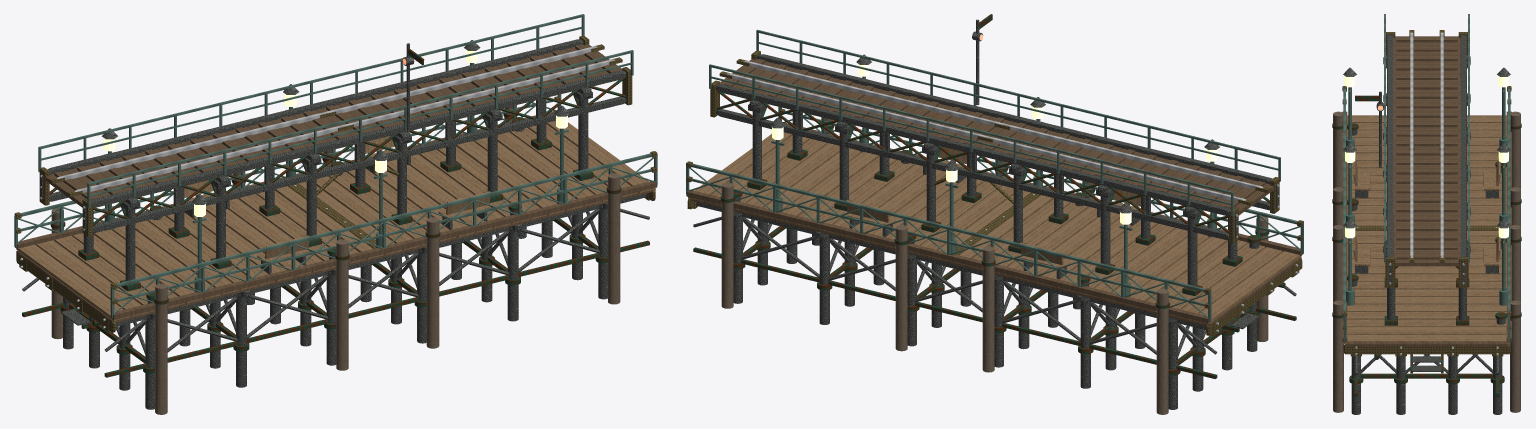
Rendered from muelle_recto_juego_web.glb.
3 views of the same model, side by side, from view 1: azimuth 30°, elevation 25°; view 2: azimuth 150°, elevation 25°; view 3: azimuth 270°, elevation 25° (orthographic). The views are drawn at different scales.
Visible parts, largest first — view 1: Muelle_Hierro_Muelle, Muelle_Madera_Tablero, Muelle_Barandilla_Verde, Muelle_Madera_Traviesa, Muelle_Hierro_Oxido, Muelle_Defensa_Pilote, Muelle_Acero_Rail, Muelle_Brida_Acople, Muelle_Luz_Farola; view 2: Muelle_Hierro_Muelle, Muelle_Madera_Tablero, Muelle_Barandilla_Verde, Muelle_Madera_Traviesa, Muelle_Hierro_Oxido, Muelle_Defensa_Pilote, Muelle_Acero_Rail, Muelle_Brida_Acople, Muelle_Luz_Farola; view 3: Muelle_Madera_Tablero, Muelle_Madera_Traviesa, Muelle_Hierro_Muelle, Muelle_Defensa_Pilote, Muelle_Barandilla_Verde, Muelle_Brida_Acople, Muelle_Hierro_Oxido, Muelle_Acero_Rail, Muelle_Luz_Farola.
Part boxes in pixels (left/top/right/bottom): Muelle_Hierro_Muelle: left=22, top=39, right=649, bottom=409; Muelle_Madera_Tablero: left=16, top=120, right=655, bottom=320; Muelle_Barandilla_Verde: left=14, top=14, right=657, bottom=317; Muelle_Madera_Traviesa: left=15, top=44, right=657, bottom=323; Muelle_Hierro_Oxido: left=22, top=49, right=649, bottom=377; Muelle_Defensa_Pilote: left=51, top=105, right=620, bottom=414; Muelle_Acero_Rail: left=20, top=46, right=614, bottom=328; Muelle_Brida_Acople: left=14, top=35, right=657, bottom=332; Muelle_Luz_Farola: left=104, top=49, right=567, bottom=216; Muelle_Hierro_Muelle: left=693, top=19, right=1296, bottom=409; Muelle_Madera_Tablero: left=688, top=132, right=1301, bottom=324; Muelle_Barandilla_Verde: left=686, top=29, right=1303, bottom=321; Muelle_Madera_Traviesa: left=686, top=59, right=1302, bottom=326; Muelle_Hierro_Oxido: left=693, top=14, right=1296, bottom=378; Muelle_Defensa_Pilote: left=721, top=117, right=1268, bottom=414; Muelle_Acero_Rail: left=727, top=61, right=1298, bottom=332; Muelle_Brida_Acople: left=686, top=50, right=1303, bottom=335; Muelle_Luz_Farola: left=772, top=64, right=1217, bottom=224; Muelle_Madera_Tablero: left=1343, top=115, right=1510, bottom=343; Muelle_Madera_Traviesa: left=1342, top=36, right=1511, bottom=346; Muelle_Hierro_Muelle: left=1343, top=35, right=1510, bottom=414; Muelle_Defensa_Pilote: left=1333, top=111, right=1520, bottom=412; Muelle_Barandilla_Verde: left=1343, top=14, right=1510, bottom=341; Muelle_Brida_Acople: left=1342, top=30, right=1511, bottom=356; Muelle_Hierro_Oxido: left=1332, top=95, right=1521, bottom=396; Muelle_Acero_Rail: left=1355, top=32, right=1498, bottom=355; Muelle_Luz_Farola: left=1345, top=76, right=1508, bottom=238.
Size of the model in its own units: 12.2 by 6.06 by 4.24.
10 materials, 8 textured.
